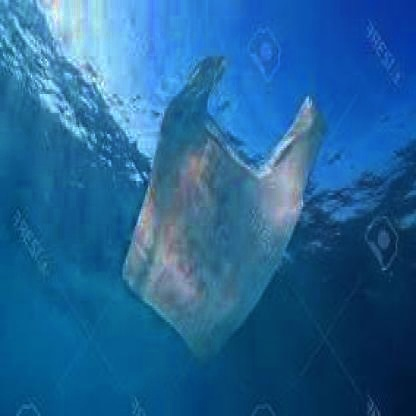pbag: (120, 52, 331, 362)
